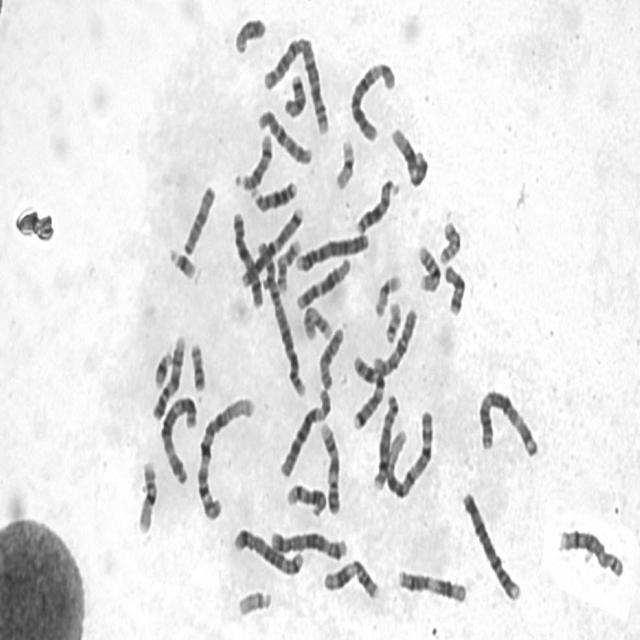A1: (192, 390, 256, 522), (383, 402, 436, 502)
A2: (254, 236, 306, 400), (260, 30, 332, 136)
A3: (474, 383, 540, 460), (157, 389, 199, 486)
B4: (459, 486, 522, 603), (292, 227, 371, 274)
B5: (230, 523, 304, 578), (267, 525, 348, 561)
C10: (254, 104, 314, 167), (370, 302, 419, 379)
C11: (394, 564, 468, 606), (320, 556, 381, 602)
C12: (293, 253, 352, 311), (388, 121, 430, 189)
C6: (276, 382, 332, 480), (347, 56, 397, 144)
C7: (237, 202, 306, 289), (348, 350, 387, 433)
C8: (555, 522, 625, 580), (370, 388, 400, 491)
C9: (149, 328, 187, 422), (317, 416, 342, 516)
D13: (352, 173, 401, 236), (248, 175, 298, 213)
D14: (231, 128, 274, 192), (283, 479, 328, 519)
D15: (179, 179, 217, 257), (315, 322, 346, 391)
E16: (134, 456, 159, 535), (414, 240, 442, 294)
E17: (274, 232, 302, 294), (300, 302, 333, 342)
E18: (441, 258, 467, 317), (281, 70, 308, 120)
F19: (371, 269, 403, 318), (331, 132, 356, 192)
F20: (436, 216, 462, 267), (187, 336, 207, 394)
G21: (165, 243, 198, 281), (150, 344, 174, 391)
G22: (234, 586, 274, 619), (381, 296, 403, 346)
X: (229, 205, 264, 310)
Y: (230, 10, 268, 56)
